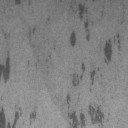red iron: (66, 4, 124, 128), (0, 26, 36, 82), (0, 106, 37, 128), (46, 16, 50, 23), (15, 0, 21, 4)
